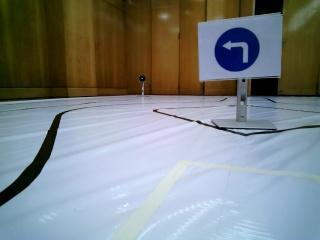left: (198, 25, 283, 80)
